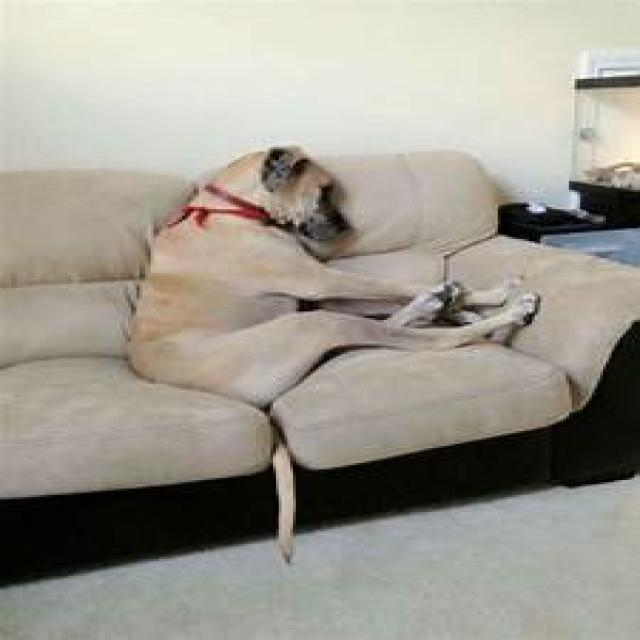dog: (122, 143, 540, 567)
